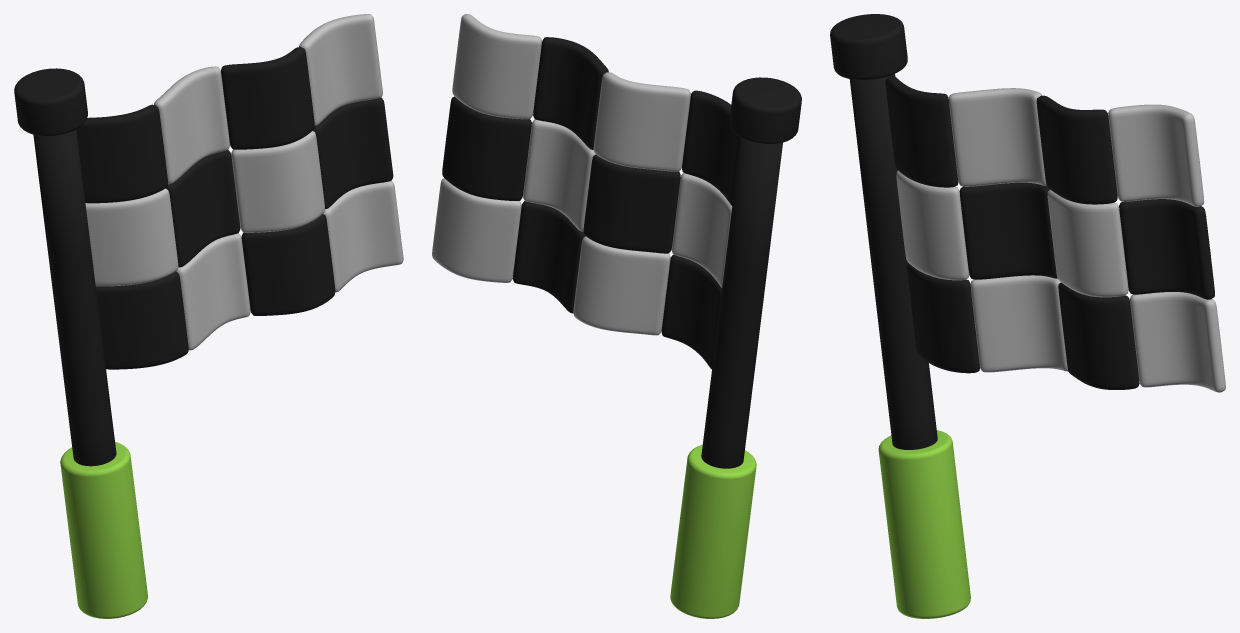
File: end-ride-animated-3d-icon-1064634041519.glb
3 views of the same model, side by side, from view 1: azimuth 30°, elevation 25°; view 2: azimuth 150°, elevation 25°; view 3: azimuth 330°, elevation 25° (orthographic). The views are drawn at different scales.
Parts seen in each view (by area): view 1: Flag, Stick, Handle; view 2: Flag, Stick, Handle; view 3: Flag, Stick, Handle.
Boxes of the visible parts, x1=… form: Flag: x1=76, y1=14, x2=403, y2=369; Stick: x1=14, y1=68, x2=116, y2=466; Handle: x1=60, y1=442, x2=147, y2=618; Flag: x1=432, y1=14, x2=740, y2=369; Stick: x1=701, y1=77, x2=801, y2=468; Handle: x1=670, y1=445, x2=756, y2=618; Flag: x1=885, y1=75, x2=1225, y2=392; Stick: x1=830, y1=14, x2=937, y2=449; Handle: x1=878, y1=430, x2=970, y2=618.
Bounding box in the file's own units: 1.43 × 1.97 × 0.2506.
